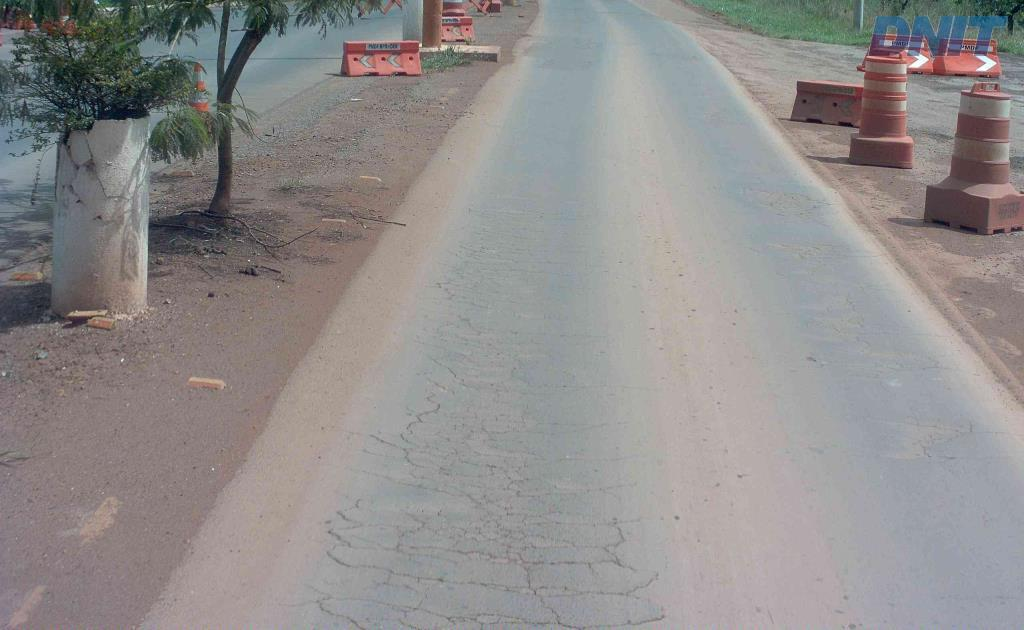crack: (488, 551, 594, 629), (326, 551, 445, 594), (383, 513, 443, 567), (405, 377, 459, 430), (461, 242, 502, 311), (365, 583, 434, 621), (479, 510, 554, 541), (489, 328, 560, 351)
